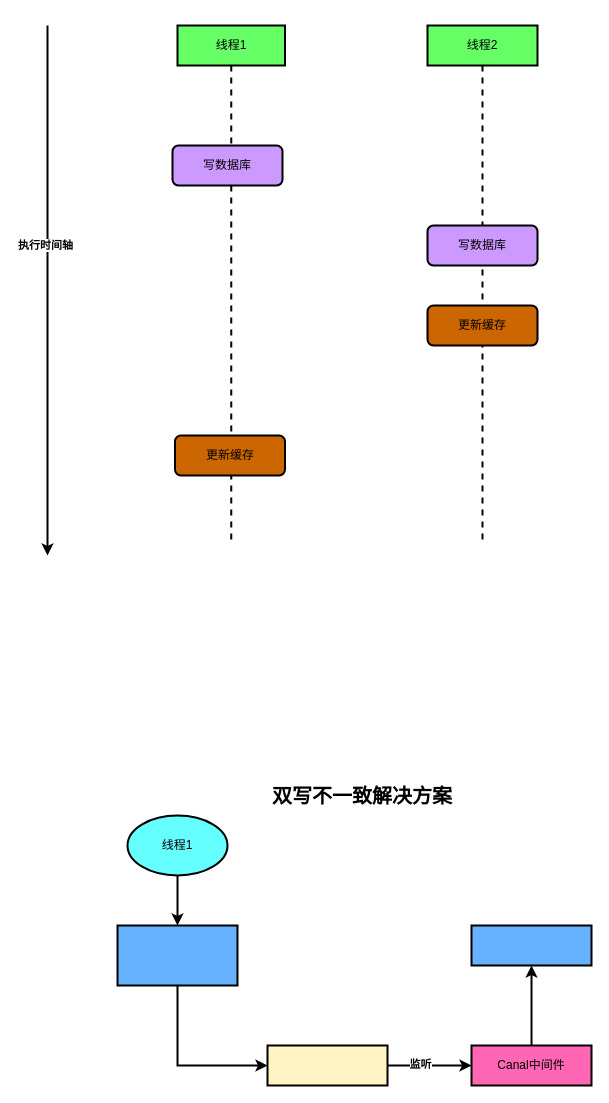
Some shapes in this 609 by 1103 pixel diagram are drawn without their labels. Here are the shapes that lost their labels. From the top down, the centre of each, then its label:
At (177,955): "写数据库 stock = 10".
At (531,945): "更新Redis缓存".
At (327,1065): "binlog".
